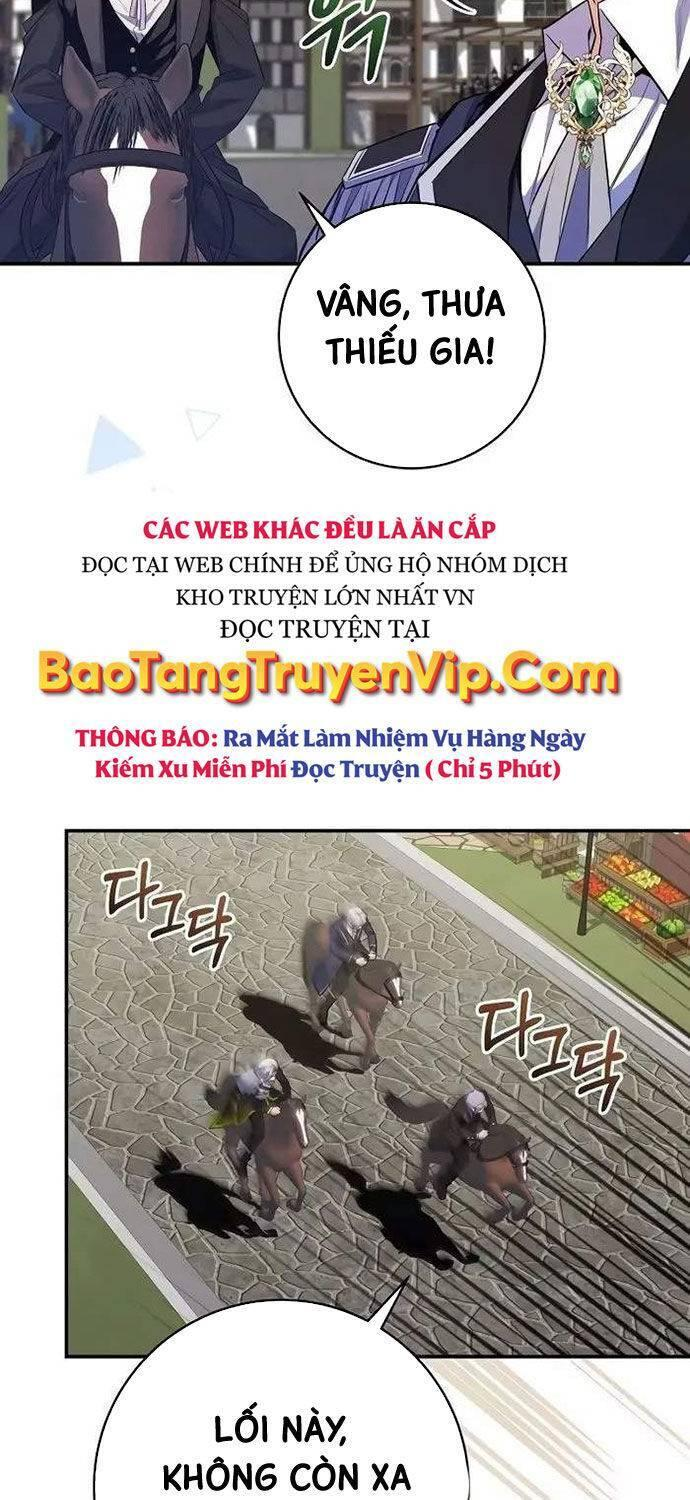quangcao: (40, 512, 626, 788)
